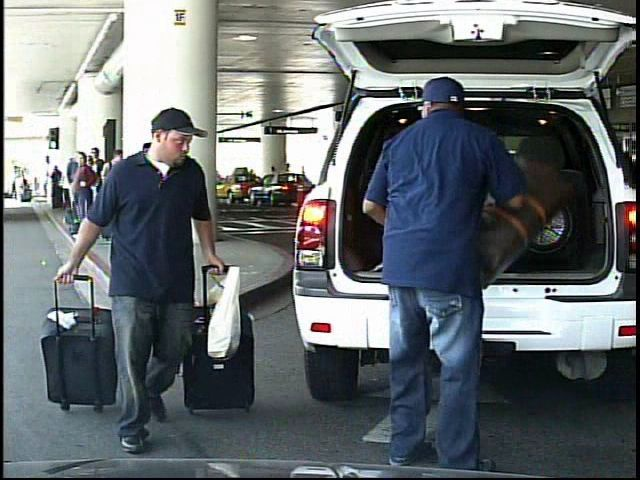person: (355, 74, 541, 476), (88, 111, 247, 446), (281, 162, 294, 199), (14, 172, 25, 204)
